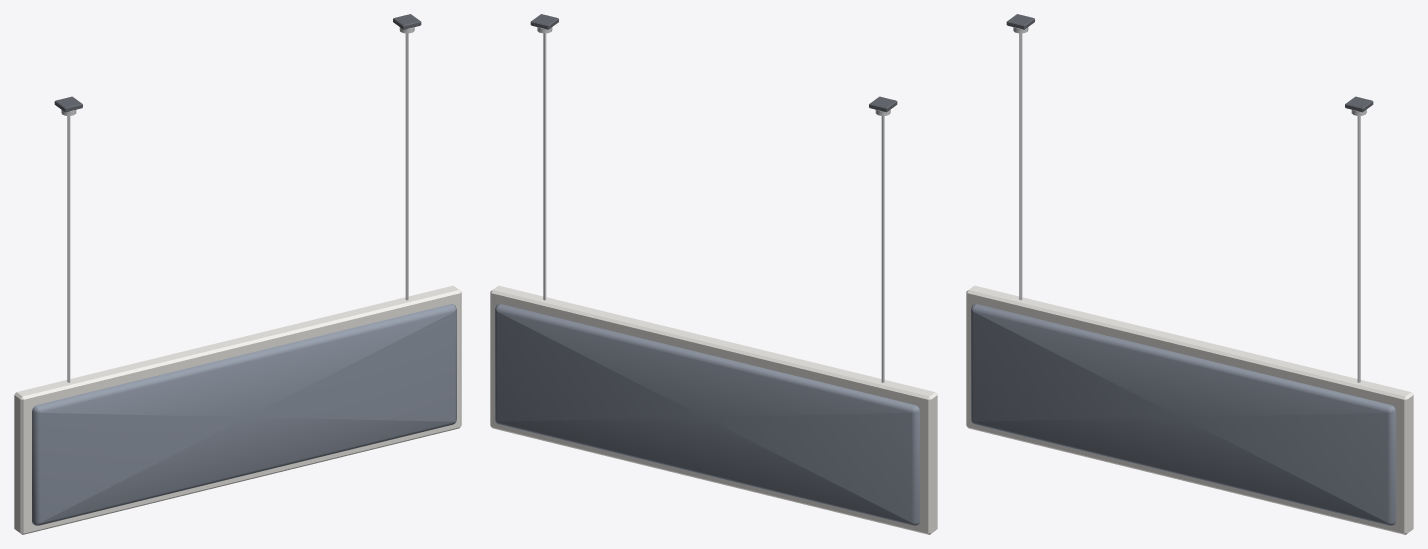
File: downtown-office-interiors-acoustic-baffle-hanging-15de2042__17050.glb
The picture shows the model from 3 angles, left to right: view 1: azimuth 30°, elevation 25°; view 2: azimuth 150°, elevation 25°; view 3: azimuth 330°, elevation 25°; orthographic projection.
Visible parts, largest first — view 1: acoustic-baffle-hanging; view 2: acoustic-baffle-hanging; view 3: acoustic-baffle-hanging.
Part boxes in pixels (box(x1,y1,x2,y2)): acoustic-baffle-hanging: box(14, 14, 461, 534); acoustic-baffle-hanging: box(490, 14, 937, 534); acoustic-baffle-hanging: box(966, 14, 1413, 534).
Size of the model in its own units: 1.2 by 1.09 by 0.09.
